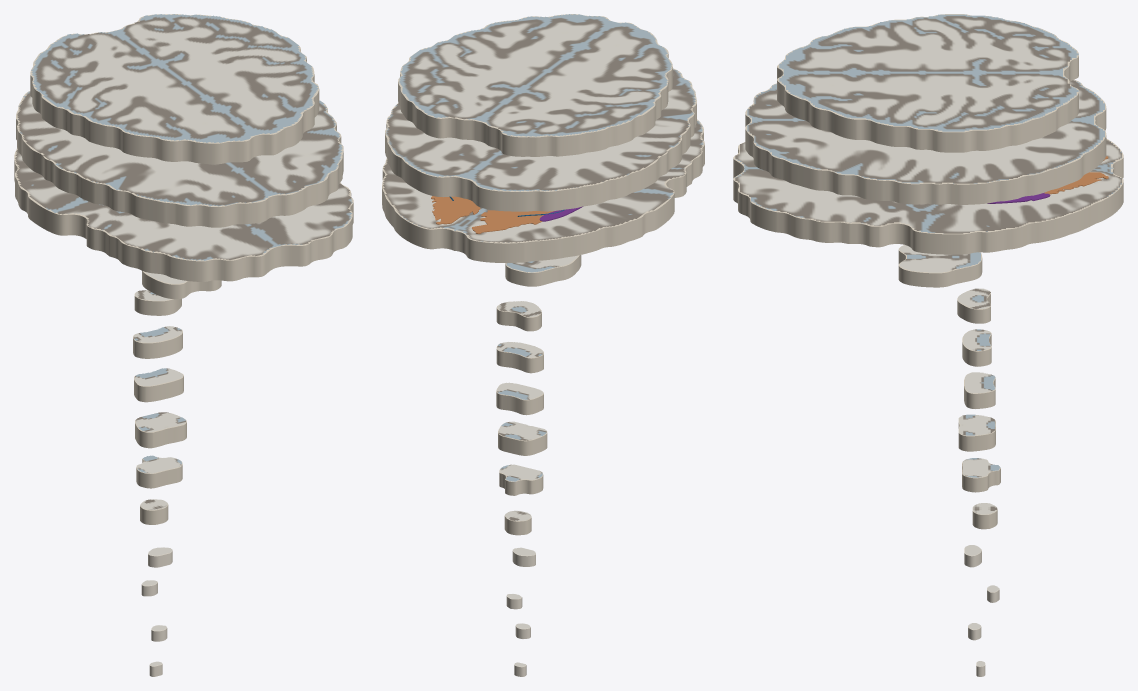
The picture shows the model from 3 angles, left to right: view 1: azimuth 30°, elevation 25°; view 2: azimuth 150°, elevation 25°; view 3: azimuth 270°, elevation 25°; orthographic projection. The views are drawn at different scales.
Visible parts, largest first — view 1: L15·切面（灰白质）, L14·切面（灰白质）, L13·切面（灰白质）, L13·背景·丘脑内囊, L14·背景·放射冠, L15·背景·皮质上部, L11·背景·下丘, L07·背景·橄榄中部, L09·背景·脑桥中部, L08·背景·脑桥下部, L06·背景·丘系交叉, L10·背景·脑桥上部 (+4 smaller); view 2: L15·切面（灰白质）, L14·切面（灰白质）, L13·切面（灰白质）, L13·背景·丘脑内囊, L14·背景·放射冠, L15·背景·皮质上部, L11·背景·下丘, L13·距状沟周围视皮质左, L13·距状沟周围视皮质右, L07·背景·橄榄中部, L09·背景·脑桥中部, L08·背景·脑桥下部 (+8 smaller); view 3: L15·切面（灰白质）, L14·切面（灰白质）, L13·切面（灰白质）, L13·背景·丘脑内囊, L14·背景·放射冠, L15·背景·皮质上部, L11·背景·下丘, L11·切面（灰白质）, L07·切面（灰白质）, L07·背景·橄榄中部, L06·背景·丘系交叉, L08·切面（灰白质）.
Part boxes in pixels (bbox=[...]): L15·切面（灰白质）: bbox=[31, 14, 318, 142]; L14·切面（灰白质）: bbox=[17, 91, 342, 206]; L13·切面（灰白质）: bbox=[15, 150, 352, 260]; L13·背景·丘脑内囊: bbox=[14, 148, 353, 281]; L14·背景·放射冠: bbox=[16, 91, 343, 227]; L15·背景·皮质上部: bbox=[30, 14, 319, 164]; L11·背景·下丘: bbox=[142, 271, 221, 299]; L07·背景·橄榄中部: bbox=[135, 413, 186, 448]; L09·背景·脑桥中部: bbox=[133, 329, 182, 358]; L08·背景·脑桥下部: bbox=[134, 373, 183, 402]; L06·背景·丘系交叉: bbox=[136, 458, 182, 488]; L10·背景·脑桥上部: bbox=[134, 293, 181, 315]; L15·切面（灰白质）: bbox=[399, 14, 671, 136]; L14·切面（灰白质）: bbox=[385, 68, 695, 191]; L13·切面（灰白质）: bbox=[383, 121, 703, 242]; L13·背景·丘脑内囊: bbox=[382, 119, 704, 263]; L14·背景·放射冠: bbox=[385, 68, 696, 211]; L15·背景·皮质上部: bbox=[398, 14, 672, 156]; L11·背景·下丘: bbox=[505, 255, 581, 286]; L13·距状沟周围视皮质左: bbox=[472, 210, 554, 233]; L13·距状沟周围视皮质右: bbox=[431, 196, 480, 224]; L07·背景·橄榄中部: bbox=[498, 423, 547, 455]; L09·背景·脑桥中部: bbox=[496, 344, 543, 373]; L08·背景·脑桥下部: bbox=[496, 384, 543, 415]; L15·切面（灰白质）: bbox=[779, 14, 1078, 131]; L14·切面（灰白质）: bbox=[747, 80, 1104, 183]; L13·切面（灰白质）: bbox=[735, 138, 1121, 233]; L13·背景·丘脑内囊: bbox=[733, 139, 1123, 254]; L14·背景·放射冠: bbox=[745, 79, 1106, 204]; L15·背景·皮质上部: bbox=[777, 14, 1078, 152]; L11·背景·下丘: bbox=[898, 245, 982, 287]; L11·切面（灰白质）: bbox=[900, 245, 980, 272]; L07·切面（灰白质）: bbox=[959, 414, 995, 435]; L07·背景·橄榄中部: bbox=[958, 418, 995, 451]; L06·背景·丘系交叉: bbox=[962, 460, 1000, 492]; L08·切面（灰白质）: bbox=[965, 372, 995, 393].
Size of the model in its own units: 13.92 by 29.72 by 17.47.
